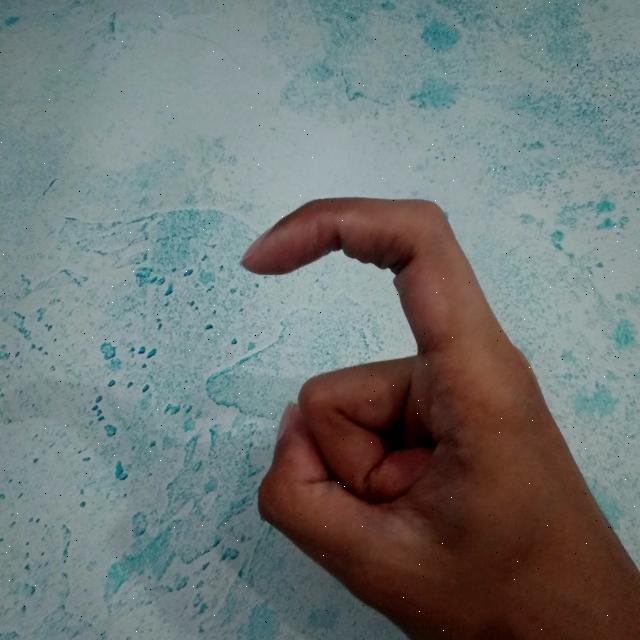X: (234, 185, 640, 640)
